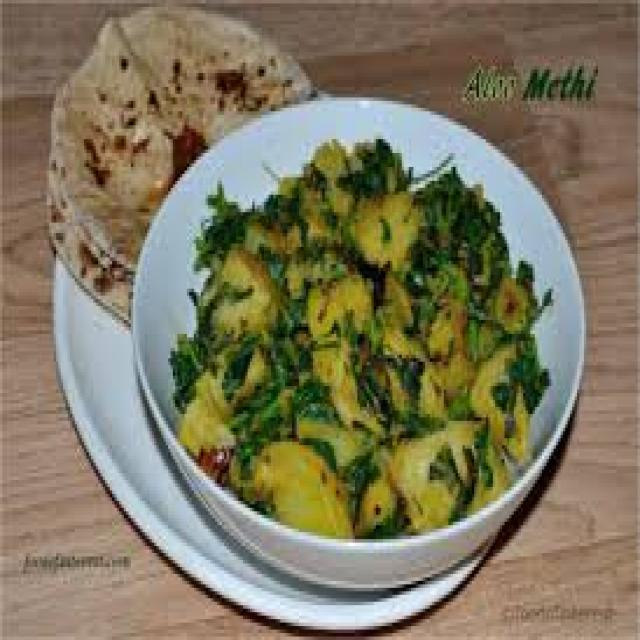Aloo Methi: (178, 147, 540, 534)
